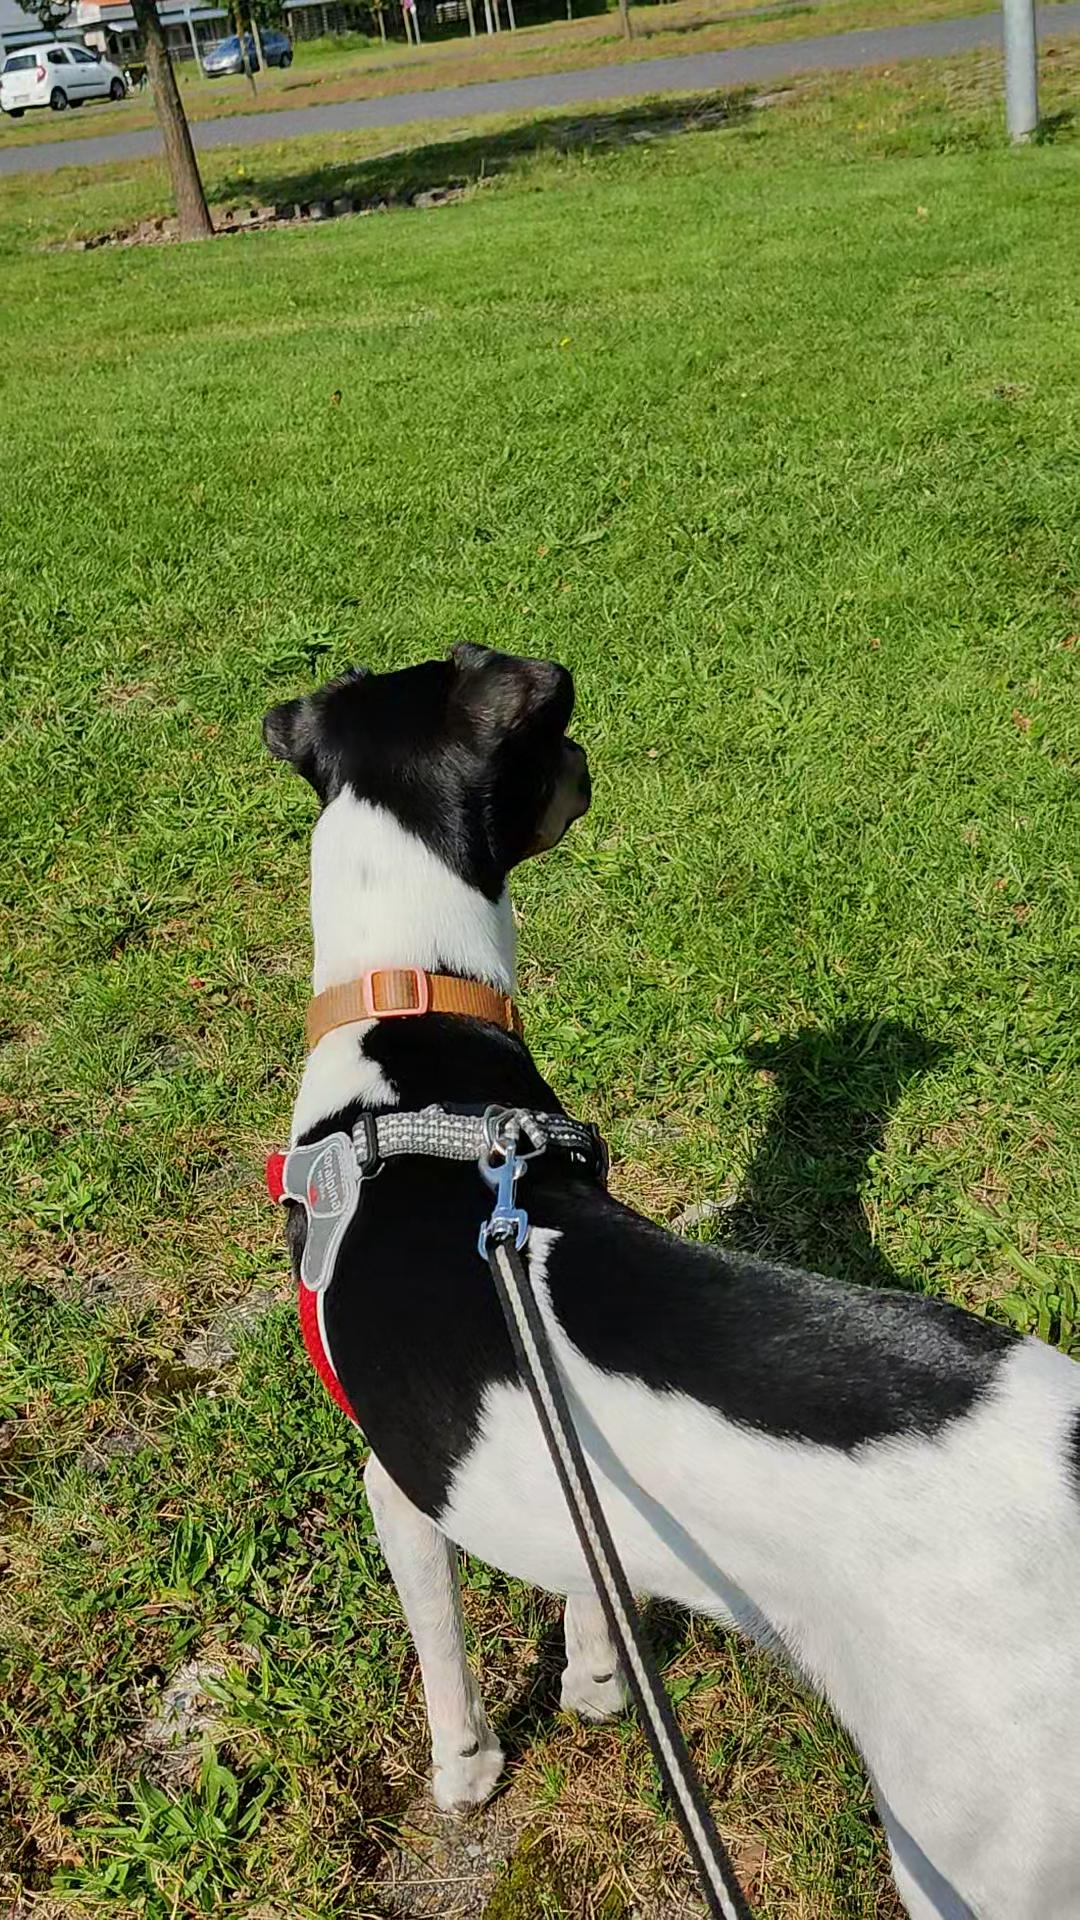Dog: (258, 640, 1079, 1919)
